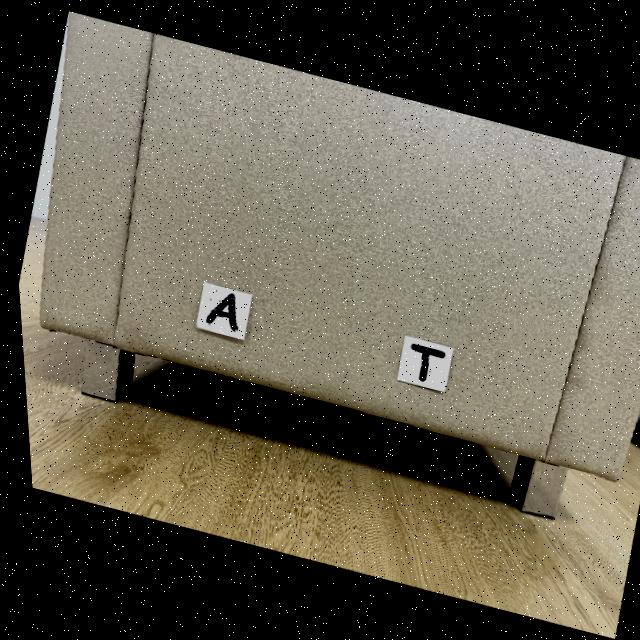A: (202, 293, 232, 330)
T: (406, 342, 440, 380)
